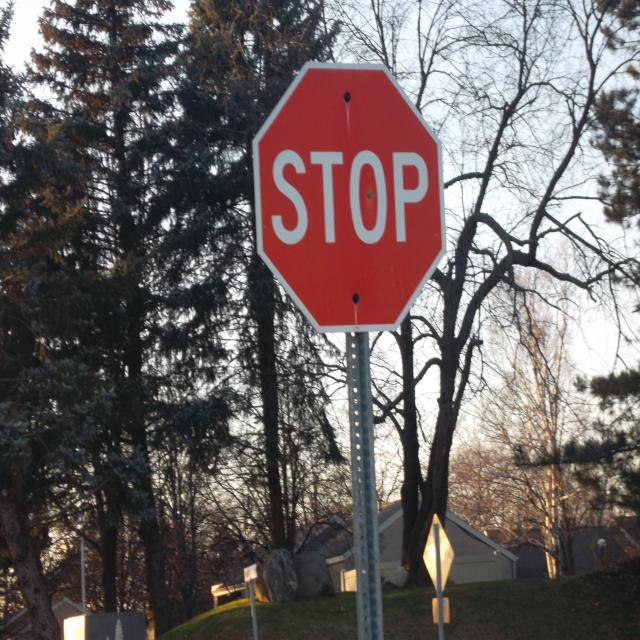stop: (250, 55, 448, 333)
